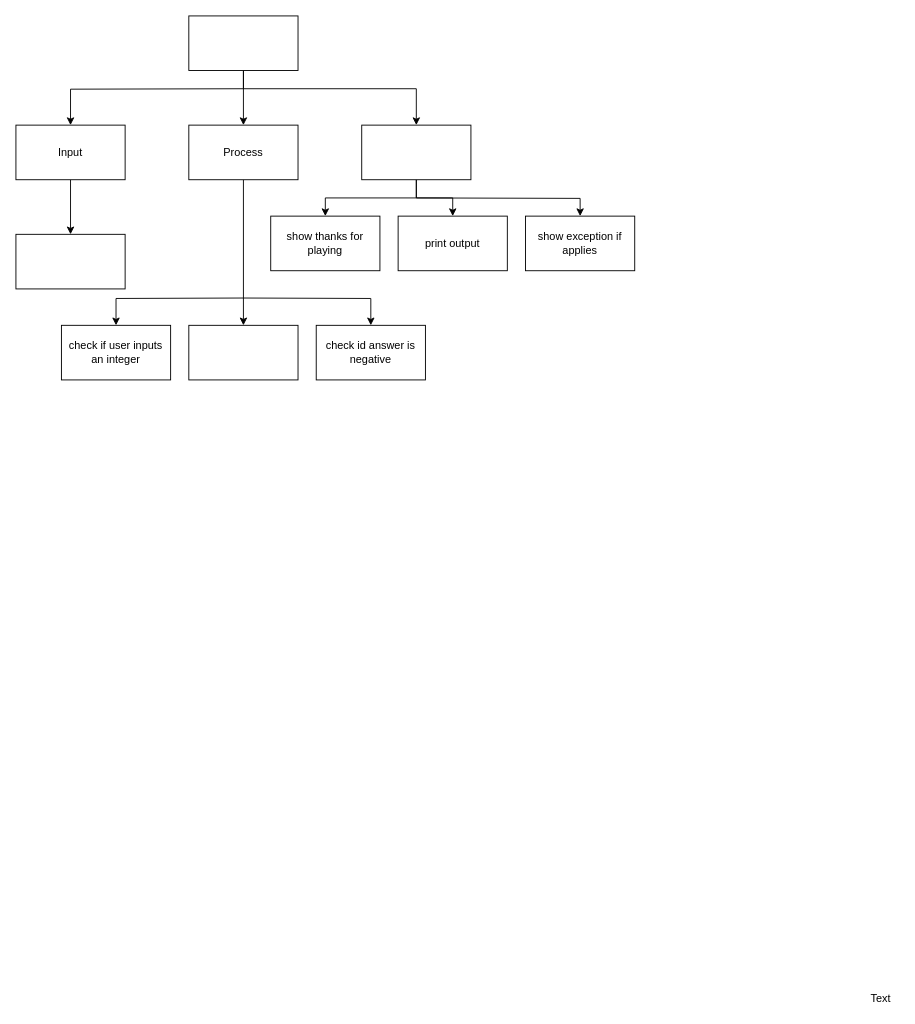
Image size: 915x1024. Some labels were removed from this diagram. Each missing label, with the centre of its shape:
"answer = loop_counter * loop_counter" belongs at (x=243, y=352).
"get string_integer" belongs at (x=70, y=261).
"Output" belongs at (x=416, y=152).
"While Loop" belongs at (x=243, y=43).
